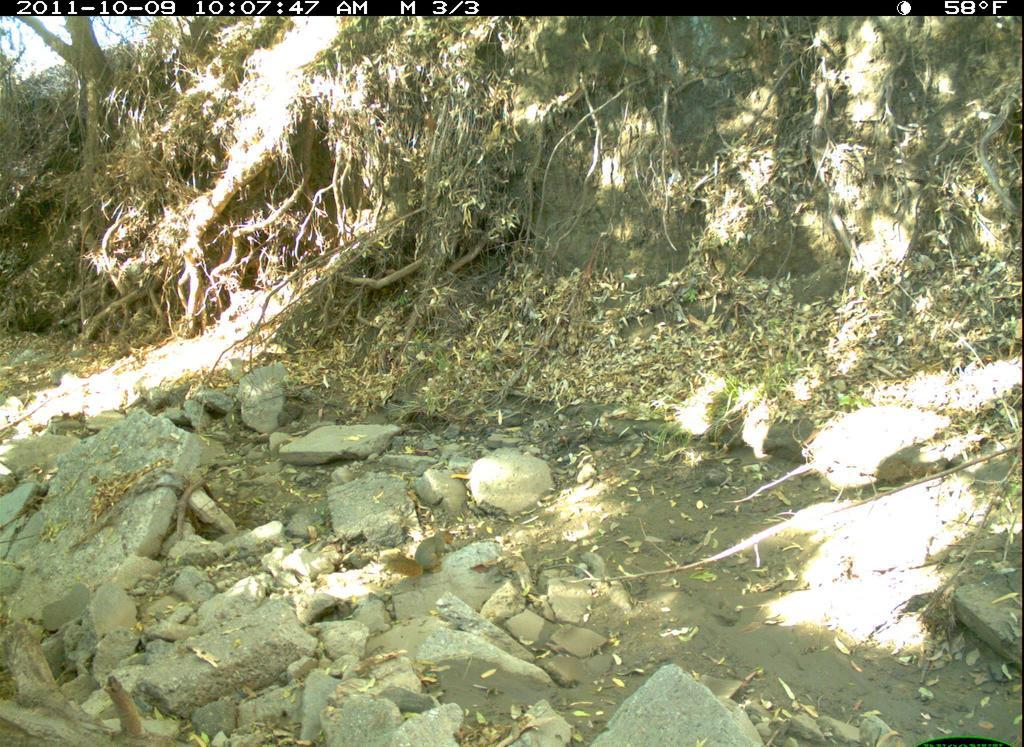squirrel: (379, 527, 478, 584)
